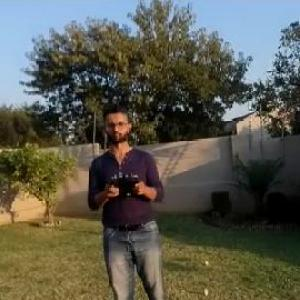follow: (79, 91, 172, 299)
